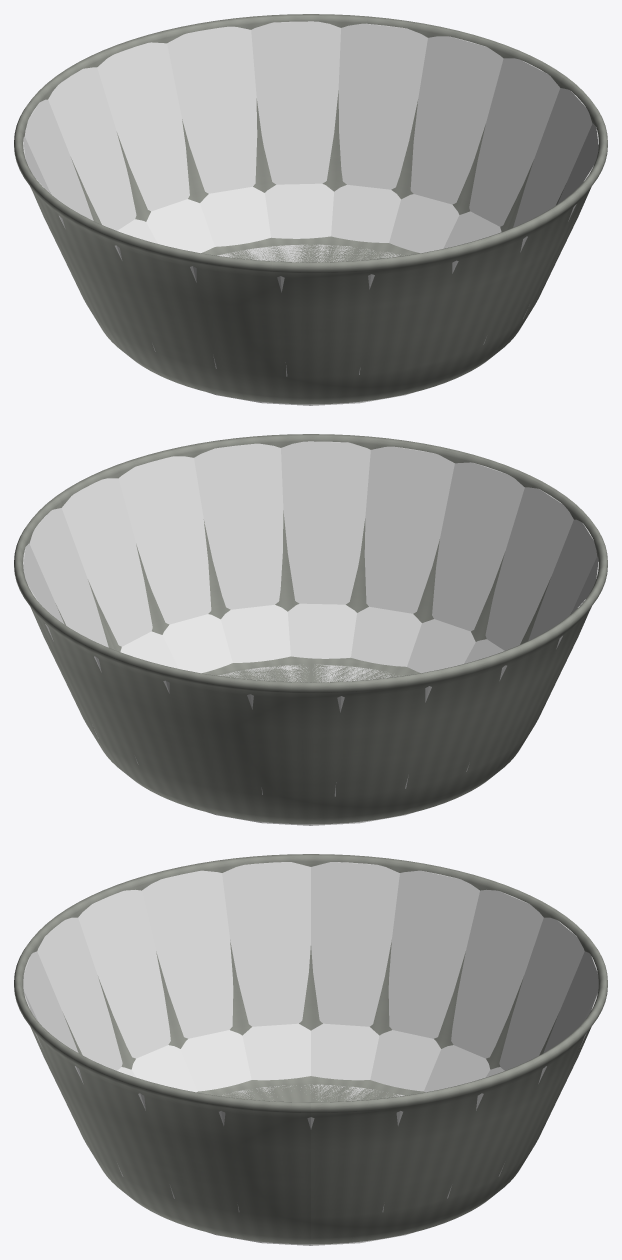
File: WashBasin.fbx
3 views of the same model, one above another, from view 1: azimuth 30°, elevation 25°; view 2: azimuth 150°, elevation 25°; view 3: azimuth 270°, elevation 25° (orthographic).
Visible parts, largest first — view 1: WashBasin, COL_WashBasin_Wall_02_04, COL_WashBasin_Wall_02_03, COL_WashBasin_Wall_02_05, COL_WashBasin_Wall_02_02, COL_WashBasin_Wall_02_06, COL_WashBasin_Wall_02_01, COL_WashBasin_Wall_02_07, COL_WashBasin_Wall_02_20, COL_WashBasin_Wall_02_08, COL_WashBasin_Wall_01_04, COL_WashBasin_Wall_01_03 (+6 smaller); view 2: WashBasin, COL_WashBasin_Wall_02_17, COL_WashBasin_Wall_02_18, COL_WashBasin_Wall_02_16, COL_WashBasin_Wall_02_19, COL_WashBasin_Wall_02_15, COL_WashBasin_Wall_02_20, COL_WashBasin_Wall_02_14, COL_WashBasin_Wall_02_01, COL_WashBasin_Wall_02_13, COL_WashBasin_Wall_01_17, COL_WashBasin_Wall_01_18 (+6 smaller); view 3: WashBasin, COL_WashBasin_Wall_02_10, COL_WashBasin_Wall_02_11, COL_WashBasin_Wall_02_09, COL_WashBasin_Wall_02_12, COL_WashBasin_Wall_02_08, COL_WashBasin_Wall_02_13, COL_WashBasin_Wall_02_07, COL_WashBasin_Wall_02_14, COL_WashBasin_Wall_01_10, COL_WashBasin_Wall_01_11, COL_WashBasin_Wall_01_09 (+6 smaller).
Part boxes in pixels (x1,y1,x2,y2): WashBasin: [14, 14, 607, 404]; COL_WashBasin_Wall_02_04: [251, 21, 340, 184]; COL_WashBasin_Wall_02_03: [338, 23, 427, 189]; COL_WashBasin_Wall_02_05: [167, 26, 257, 193]; COL_WashBasin_Wall_02_02: [410, 36, 503, 204]; COL_WashBasin_Wall_02_06: [97, 42, 189, 211]; COL_WashBasin_Wall_02_01: [469, 58, 559, 226]; COL_WashBasin_Wall_02_07: [48, 67, 136, 230]; COL_WashBasin_Wall_02_20: [513, 88, 592, 227]; COL_WashBasin_Wall_02_08: [25, 99, 93, 220]; COL_WashBasin_Wall_01_04: [265, 183, 333, 238]; COL_WashBasin_Wall_01_03: [331, 185, 400, 242]; WashBasin: [14, 434, 607, 824]; COL_WashBasin_Wall_02_17: [281, 441, 370, 604]; COL_WashBasin_Wall_02_18: [194, 443, 283, 609]; COL_WashBasin_Wall_02_16: [364, 446, 454, 613]; COL_WashBasin_Wall_02_19: [118, 456, 211, 624]; COL_WashBasin_Wall_02_15: [432, 462, 524, 631]; COL_WashBasin_Wall_02_20: [62, 478, 152, 646]; COL_WashBasin_Wall_02_14: [485, 487, 573, 650]; COL_WashBasin_Wall_02_01: [29, 508, 108, 647]; COL_WashBasin_Wall_02_13: [528, 519, 596, 640]; COL_WashBasin_Wall_01_17: [288, 603, 356, 658]; COL_WashBasin_Wall_01_18: [221, 605, 290, 662]; WashBasin: [14, 854, 607, 1244]; COL_WashBasin_Wall_02_10: [311, 862, 399, 1026]; COL_WashBasin_Wall_02_11: [222, 862, 310, 1026]; COL_WashBasin_Wall_02_09: [388, 870, 479, 1038]; COL_WashBasin_Wall_02_12: [142, 870, 233, 1038]; COL_WashBasin_Wall_02_08: [451, 889, 543, 1058]; COL_WashBasin_Wall_02_13: [78, 889, 170, 1058]; COL_WashBasin_Wall_02_07: [499, 917, 584, 1070]; COL_WashBasin_Wall_02_14: [37, 917, 122, 1070]; COL_WashBasin_Wall_01_10: [311, 1023, 379, 1080]; COL_WashBasin_Wall_01_11: [242, 1023, 310, 1080]; COL_WashBasin_Wall_01_09: [370, 1030, 440, 1091].
Size of the model in its own units: 0.46 by 0.16 by 0.46.
1 material, 1 textured.
